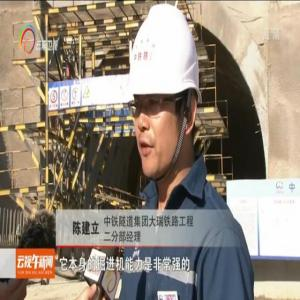white: (130, 2, 205, 182)
